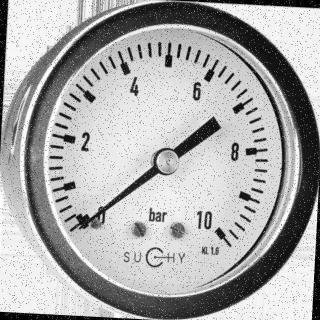gauge: (0, 0, 320, 320), (64, 198, 118, 240), (193, 208, 237, 250), (154, 147, 180, 175), (75, 218, 93, 235)
